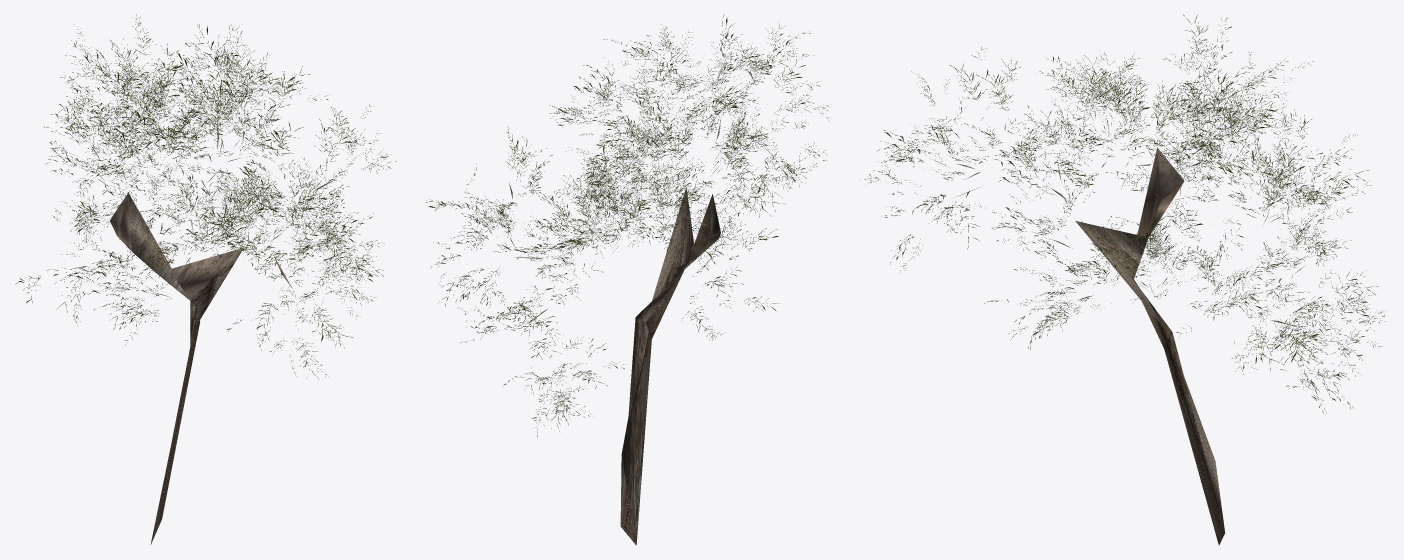
Rendered from tree_leaf.glb.
The picture shows the model from 3 angles, left to right: view 1: azimuth 30°, elevation 25°; view 2: azimuth 150°, elevation 25°; view 3: azimuth 270°, elevation 25°; orthographic projection. The views are drawn at different scales.
Parts seen in each view (by area): view 1: tree_leaf; view 2: tree_leaf; view 3: tree_leaf.
Part boxes in pixels (x1,y1,x2,y2): tree_leaf: (15, 14, 396, 544); tree_leaf: (426, 14, 828, 545); tree_leaf: (864, 14, 1385, 545).
Size of the model in its own units: 2.87 by 4.41 by 4.27.
Materials: 3 (3 with a texture image).
